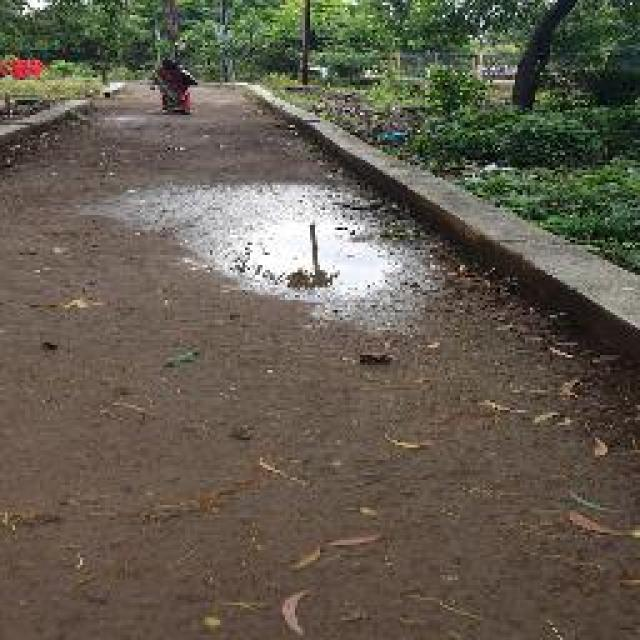puddle: (212, 201, 416, 316)
